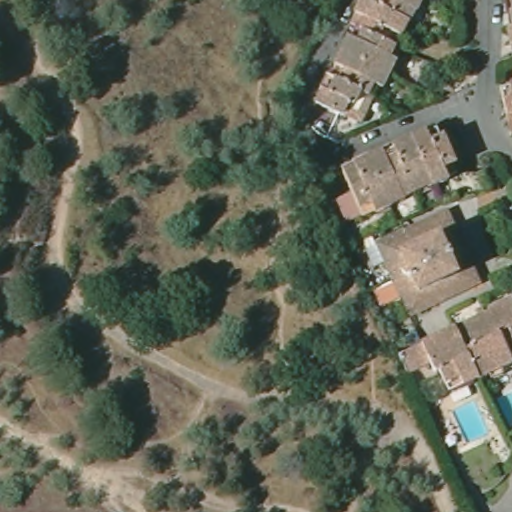pool: (455, 400, 490, 445), (498, 387, 512, 437)
